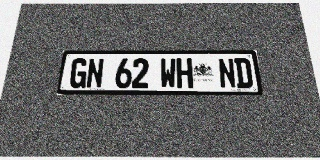2: (132, 58, 149, 88)
6: (115, 58, 132, 88)
D: (234, 58, 253, 88)
G: (69, 58, 88, 88)
H: (176, 58, 193, 88)
N: (86, 58, 104, 88), (218, 58, 236, 88)
W: (160, 58, 176, 88)
